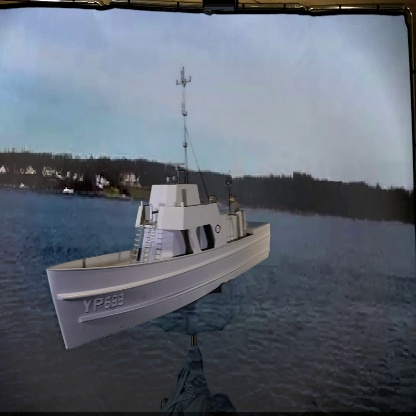YP689: (44, 70, 275, 352)
